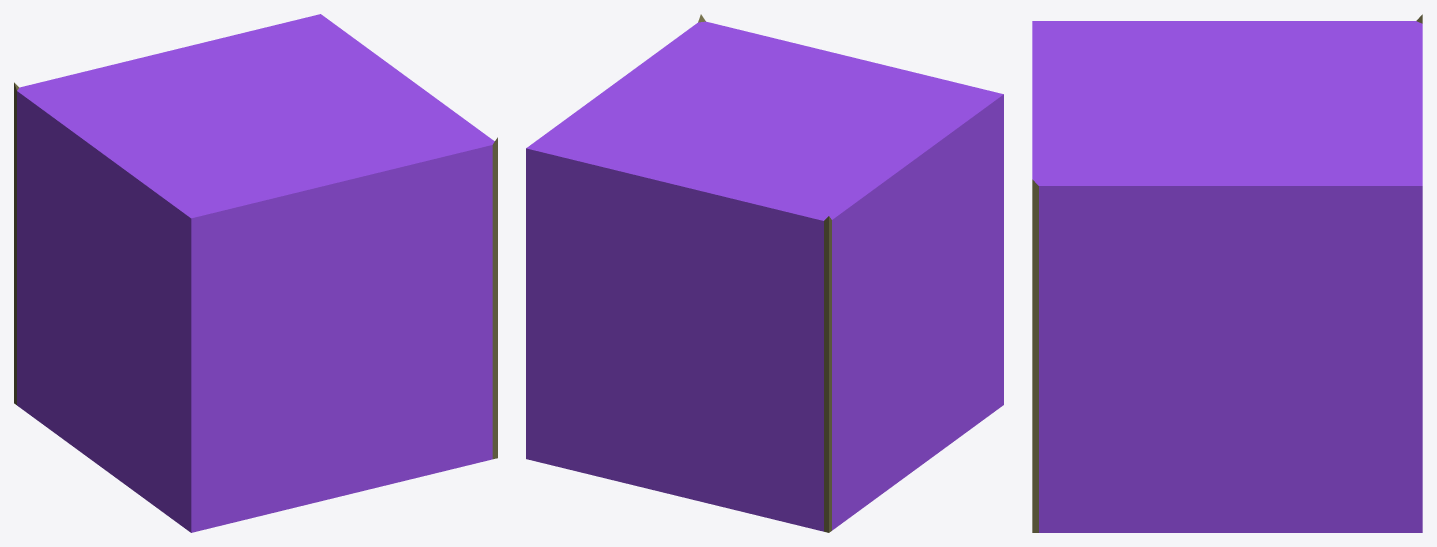
File: tile_toxic_deep_3_02.fbx
3 renders of one model, left to right at view 1: azimuth 30°, elevation 25°; view 2: azimuth 150°, elevation 25°; view 3: azimuth 270°, elevation 25°, orthographic. The views are drawn at different scales.
Visible parts, largest first — view 1: tile_toxic_deep_3_02; view 2: tile_toxic_deep_3_02; view 3: tile_toxic_deep_3_02.
Part boxes in pixels (bbox=[...]): tile_toxic_deep_3_02: bbox=[14, 14, 497, 532]; tile_toxic_deep_3_02: bbox=[526, 14, 1003, 532]; tile_toxic_deep_3_02: bbox=[1032, 14, 1422, 532].
Size of the model in its own units: 100 by 100 by 100.
